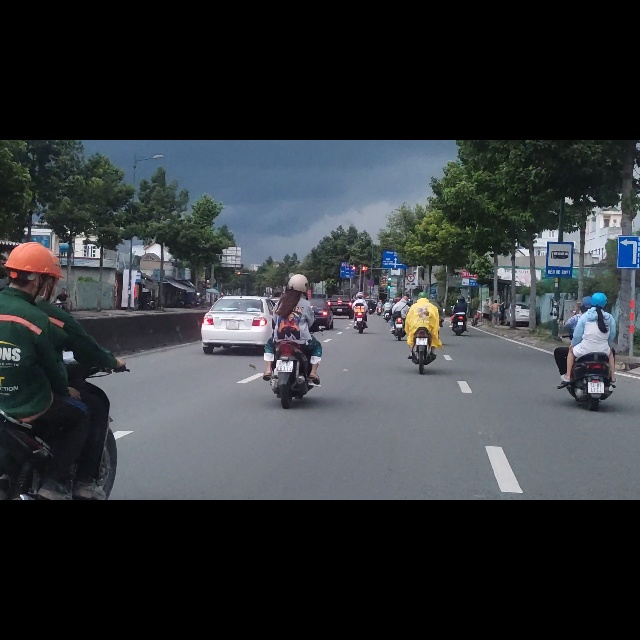bien_chi_dan: (547, 179, 573, 245), (340, 225, 355, 245), (407, 238, 415, 252)
